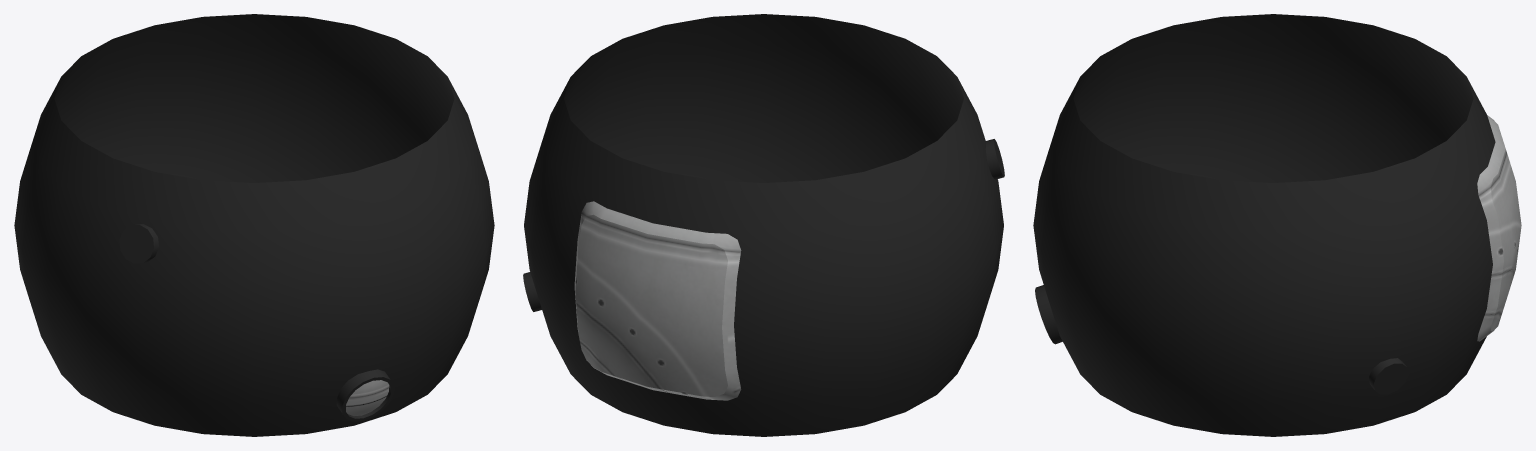
The model's file is hadar_crew_s1_2.obj.
3 renders of one model, left to right at view 1: azimuth 30°, elevation 25°; view 2: azimuth 150°, elevation 25°; view 3: azimuth 270°, elevation 25°, orthographic.
Parts seen in each view (by area): view 1: mesh, windows; view 2: mesh; view 3: mesh.
Part boxes in pixels (x1,y1,x2,y2): mesh: (14, 14, 494, 436); windows: (346, 380, 389, 415); mesh: (523, 14, 1004, 436); mesh: (1033, 14, 1521, 436).
Size of the model in its own units: 1.5 by 0.875 by 1.52.
